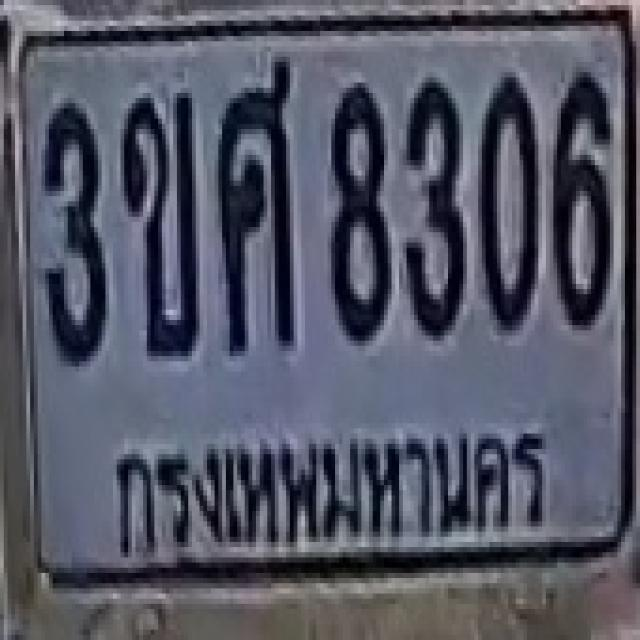-: (214, 59, 290, 348), (120, 88, 196, 351)
0: (476, 72, 536, 325)
3: (40, 98, 104, 361), (401, 75, 461, 333)
6: (550, 67, 610, 325)
8: (328, 80, 388, 338)
BKK: (95, 404, 567, 578)
